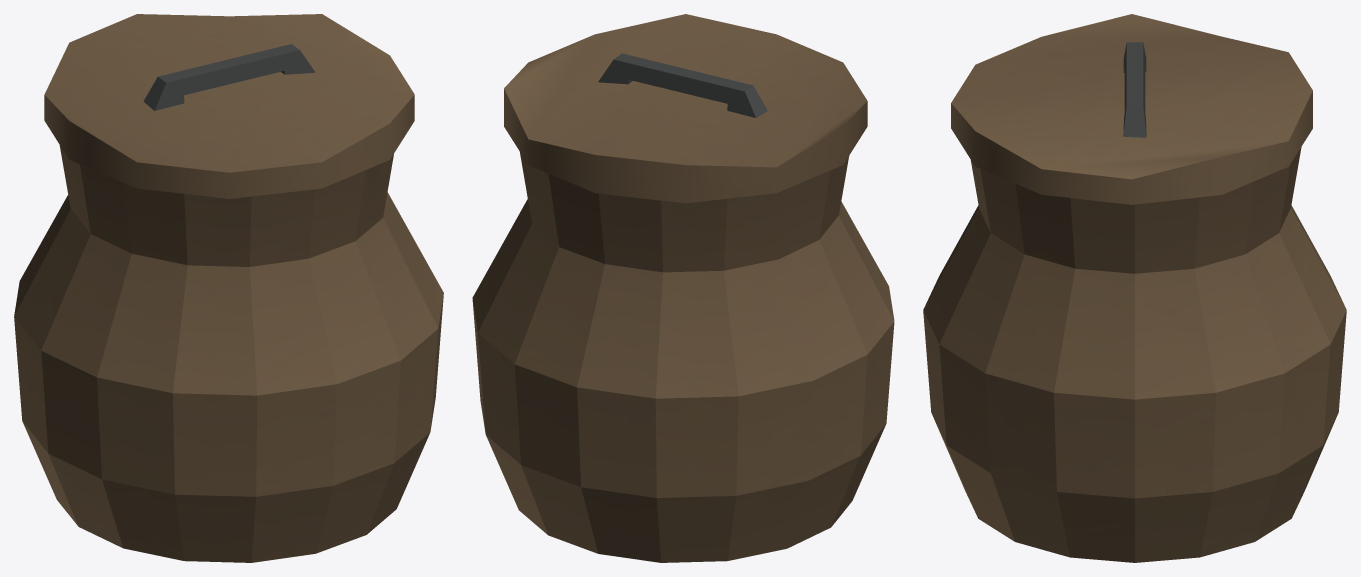
File: ZLP_Build_D_25.FBX
3 views of the same model, side by side, from view 1: azimuth 30°, elevation 25°; view 2: azimuth 150°, elevation 25°; view 3: azimuth 270°, elevation 25° (orthographic). The views are drawn at different scales.
Visible parts, largest first — view 1: ZLP_Build_D_25; view 2: ZLP_Build_D_25; view 3: ZLP_Build_D_25.
Boxes of the visible parts, x1,y1,x2,y2 form: ZLP_Build_D_25: (14,14,443,562); ZLP_Build_D_25: (472,14,894,562); ZLP_Build_D_25: (923,14,1346,562).
Bounding box in the file's own units: 54.85 × 59.58 × 54.85.
